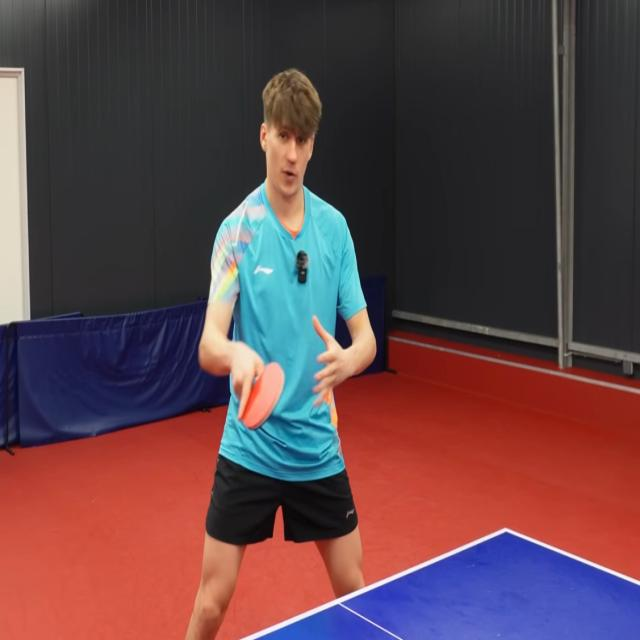TT Racket: (216, 349, 307, 448)
TT Table: (236, 524, 639, 639)
